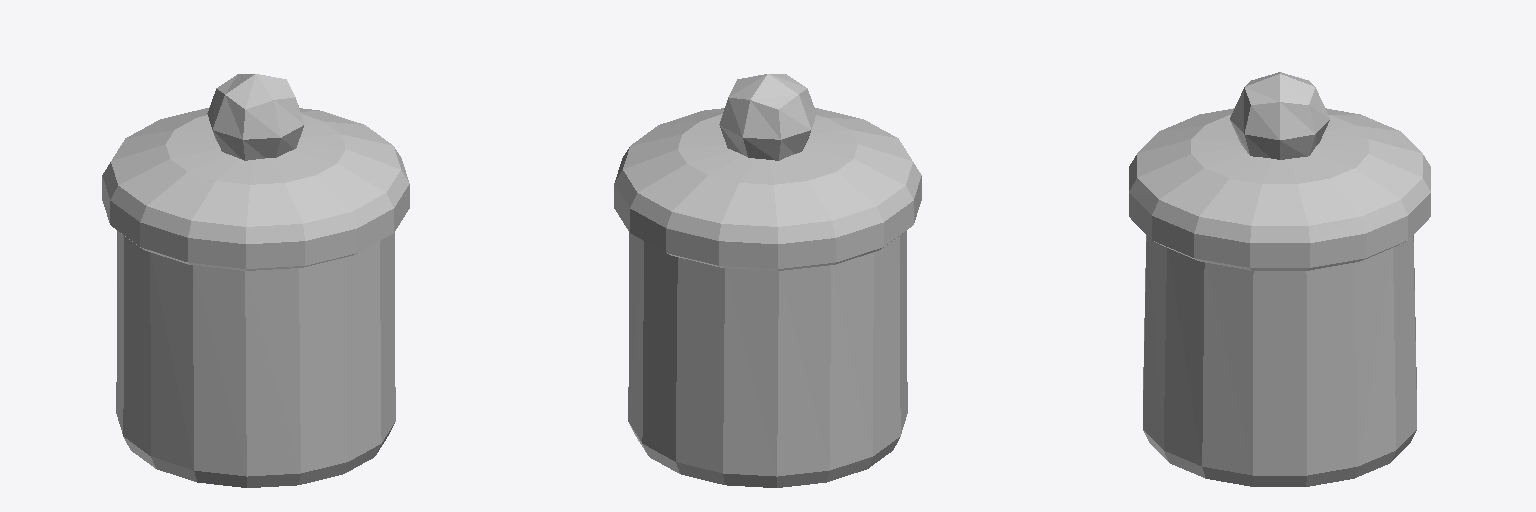
The model's file is container_kitchen_A_white.obj.
The picture shows the model from 3 angles: view 1: azimuth 30°, elevation 25°; view 2: azimuth 150°, elevation 25°; view 3: azimuth 270°, elevation 25°; orthographic projection.
Parts seen in each view (by area): view 1: container_kitchen_A_white; view 2: container_kitchen_A_white; view 3: container_kitchen_A_white.
Boxes of the visible parts, x1=… form: container_kitchen_A_white: x1=102, y1=74, x2=409, y2=487; container_kitchen_A_white: x1=614, y1=74, x2=921, y2=487; container_kitchen_A_white: x1=1129, y1=72, x2=1430, y2=486.
Size of the model in its own units: 0.4 by 0.5329 by 0.4.